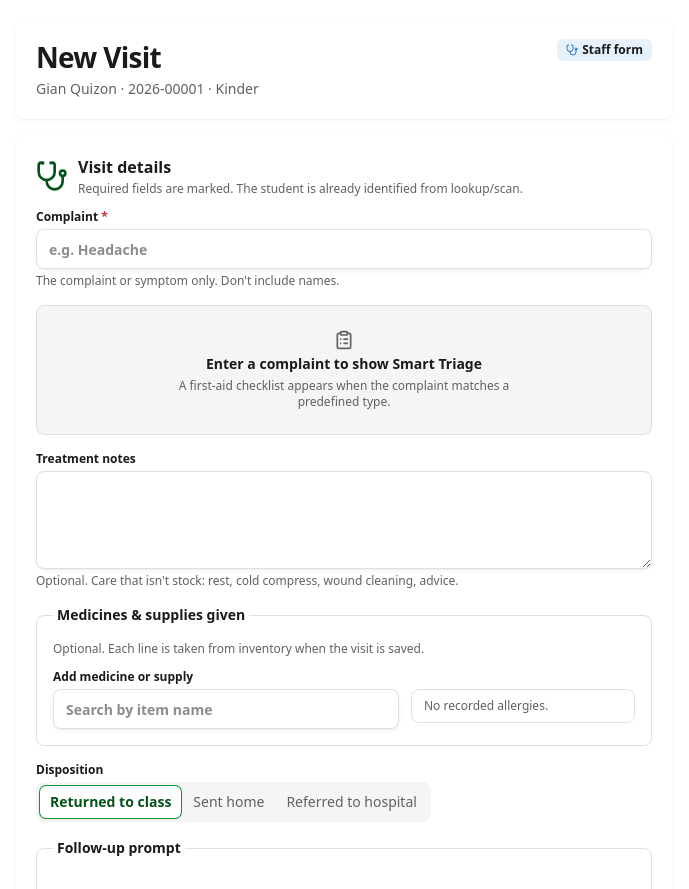
Scenario: New Visit › saves a visit with neither treatment notes nor a medicine
Expected: the heading "New Visit" is shown, left=36, top=38, right=161, bottom=76
In the dropdown labelled "Complaint *": (344, 249) left=36, top=229, right=652, bottom=269, type "Headache"
(page scrolled)
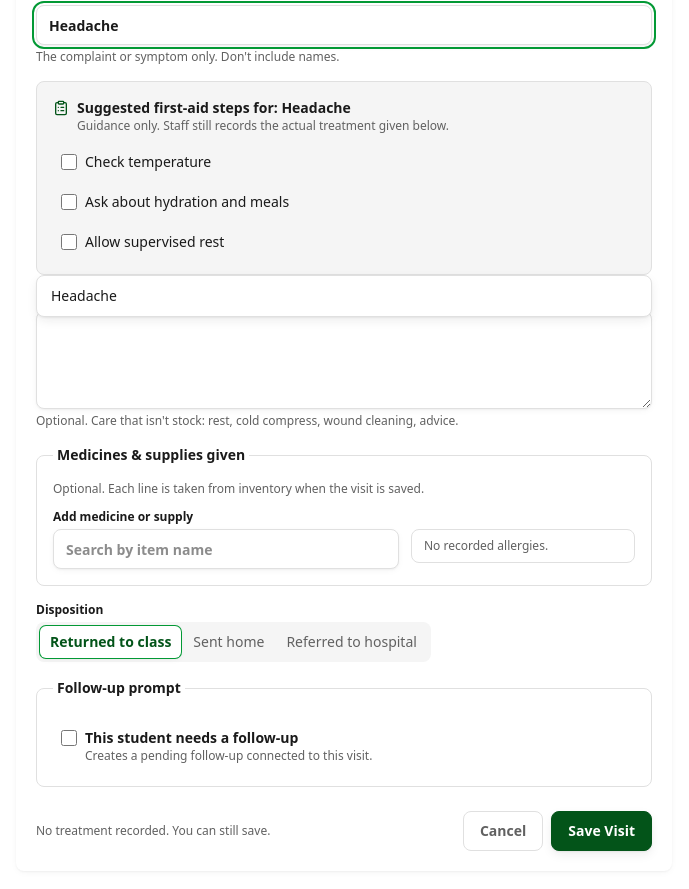
Click the button "Save Visit": (602, 831) left=551, top=811, right=652, bottom=851
(page scrolled)
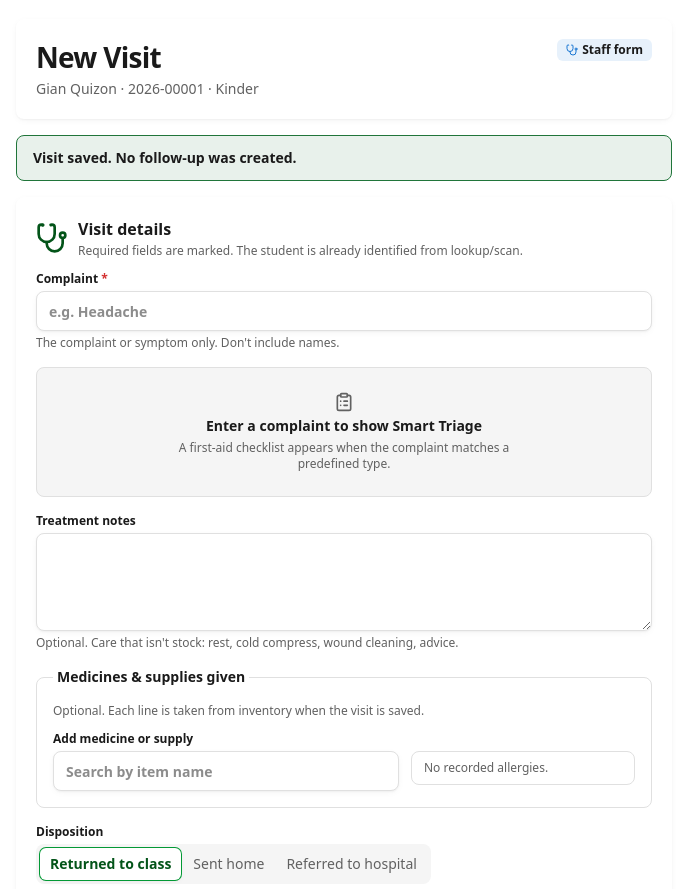
Expected: the text "Visit saved. No follow-up was created." is shown, left=16, top=135, right=672, bottom=181
